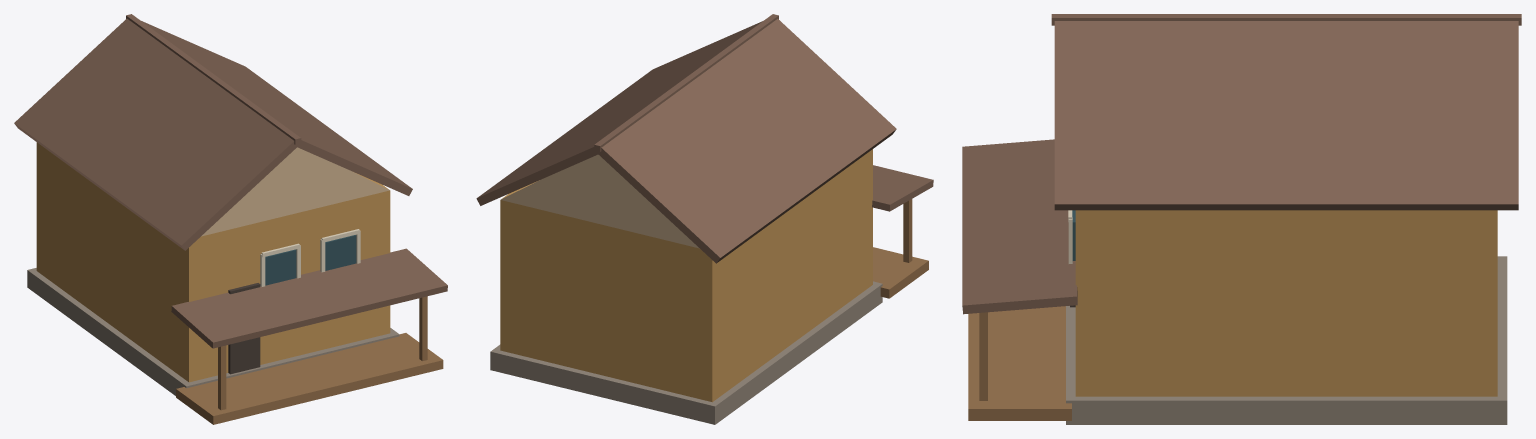
Rendered from arizona-timber-house-gable_lod0.glb.
3 renders of one model, left to right at view 1: azimuth 30°, elevation 25°; view 2: azimuth 150°, elevation 25°; view 3: azimuth 270°, elevation 25°, orthographic. The views are drawn at different scales.
Visible parts, largest first — view 1: RF_AZ_Gable_Walls, RF_AZ_Gable_RoofLeft, RF_AZ_Gable_PorchRoof, RF_AZ_Gable_PorchDeck, RF_AZ_Gable_Gable, RF_AZ_Gable_RoofRight, RF_AZ_Gable_Foundation, RF_AZ_Gable_Ridge, RF_AZ_Gable_Door, RF_AZ_Gable_Window, RF_AZ_Gable_Window.001, RF_AZ_Gable_Post (+1 smaller); view 2: RF_AZ_Gable_Walls, RF_AZ_Gable_RoofLeft, RF_AZ_Gable_Foundation, RF_AZ_Gable_Gable.001, RF_AZ_Gable_RoofRight, RF_AZ_Gable_PorchRoof, RF_AZ_Gable_PorchDeck, RF_AZ_Gable_Ridge, RF_AZ_Gable_Post; view 3: RF_AZ_Gable_RoofRight, RF_AZ_Gable_Walls, RF_AZ_Gable_PorchRoof, RF_AZ_Gable_Foundation, RF_AZ_Gable_PorchDeck, RF_AZ_Gable_Ridge, RF_AZ_Gable_Post.001.
Boxes of the visible parts, x1,y1,x2,y2 form: RF_AZ_Gable_Walls: [36, 142, 390, 382]; RF_AZ_Gable_RoofLeft: [14, 18, 298, 250]; RF_AZ_Gable_PorchRoof: [171, 248, 447, 348]; RF_AZ_Gable_PorchDeck: [176, 333, 443, 424]; RF_AZ_Gable_Gable: [201, 147, 389, 236]; RF_AZ_Gable_RoofRight: [141, 21, 412, 195]; RF_AZ_Gable_Foundation: [27, 268, 399, 395]; RF_AZ_Gable_Ridge: [126, 14, 301, 144]; RF_AZ_Gable_Door: [228, 283, 260, 374]; RF_AZ_Gable_Window: [265, 249, 296, 285]; RF_AZ_Gable_Window.001: [325, 235, 356, 270]; RF_AZ_Gable_Post: [218, 345, 226, 410]; RF_AZ_Gable_Walls: [500, 149, 872, 402]; RF_AZ_Gable_RoofLeft: [596, 19, 896, 263]; RF_AZ_Gable_Foundation: [490, 281, 882, 424]; RF_AZ_Gable_Gable.001: [500, 154, 699, 248]; RF_AZ_Gable_RoofRight: [476, 21, 762, 205]; RF_AZ_Gable_PorchRoof: [872, 165, 933, 211]; RF_AZ_Gable_PorchDeck: [873, 247, 928, 298]; RF_AZ_Gable_Ridge: [594, 14, 778, 151]; RF_AZ_Gable_Post: [903, 199, 912, 262]; RF_AZ_Gable_RoofRight: [1054, 21, 1518, 210]; RF_AZ_Gable_Walls: [1075, 210, 1497, 396]; RF_AZ_Gable_PorchRoof: [962, 139, 1077, 314]; RF_AZ_Gable_Foundation: [1066, 256, 1507, 424]; RF_AZ_Gable_PorchDeck: [968, 306, 1071, 420]; RF_AZ_Gable_Ridge: [1051, 14, 1521, 25]; RF_AZ_Gable_Post.001: [979, 312, 987, 400].
Size of the model in its own units: 9.8 by 9.69 by 14.58.
